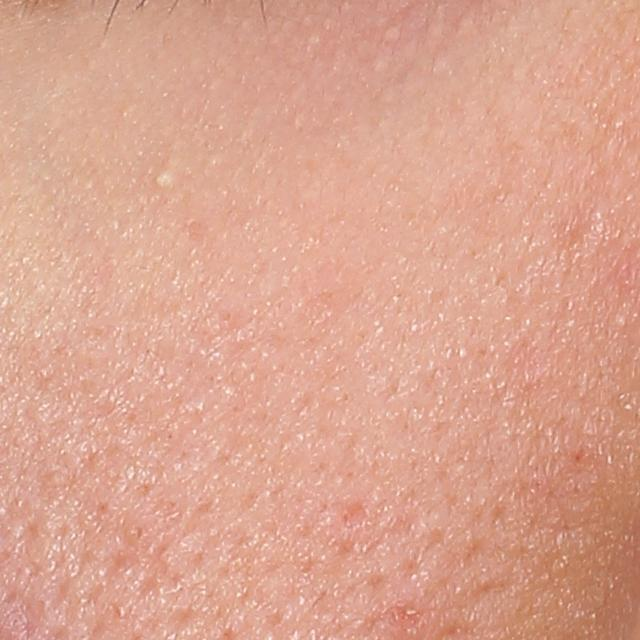other: (153, 167, 176, 194)
